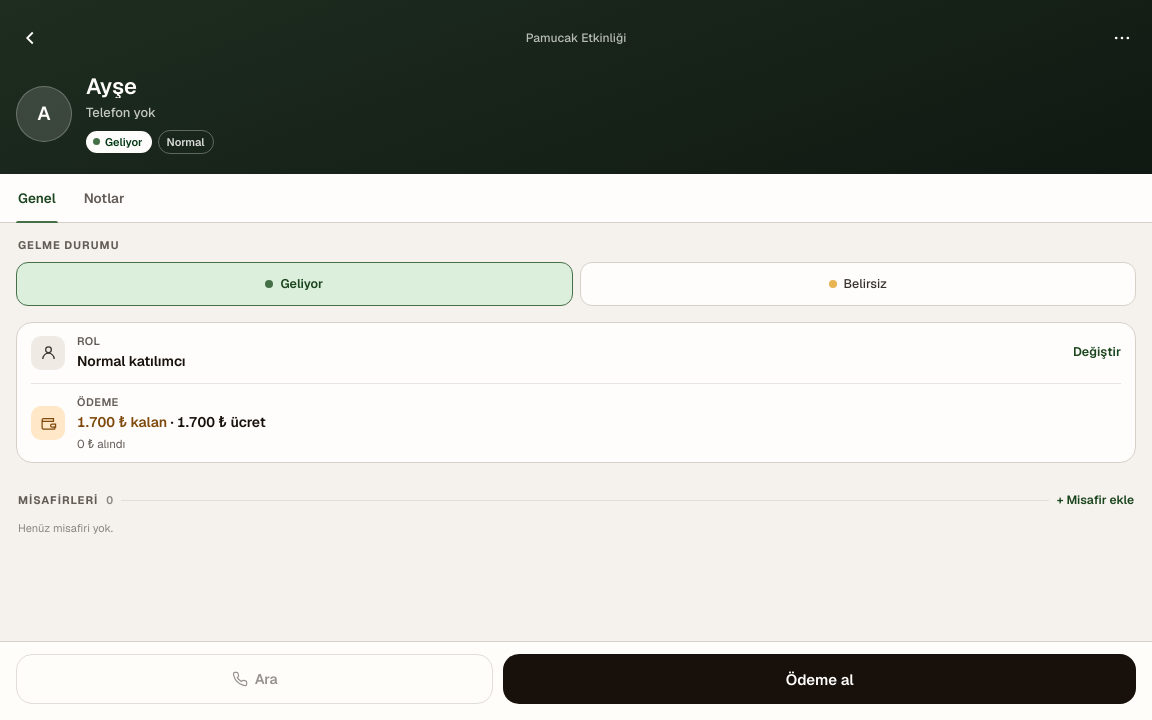
Scenario: Katılımcı profili not günlüğü › kendi notunu düzenler
The image size is (1152, 720).
Click the tab "Notlar" at (104, 198), box [82,174,126,222]
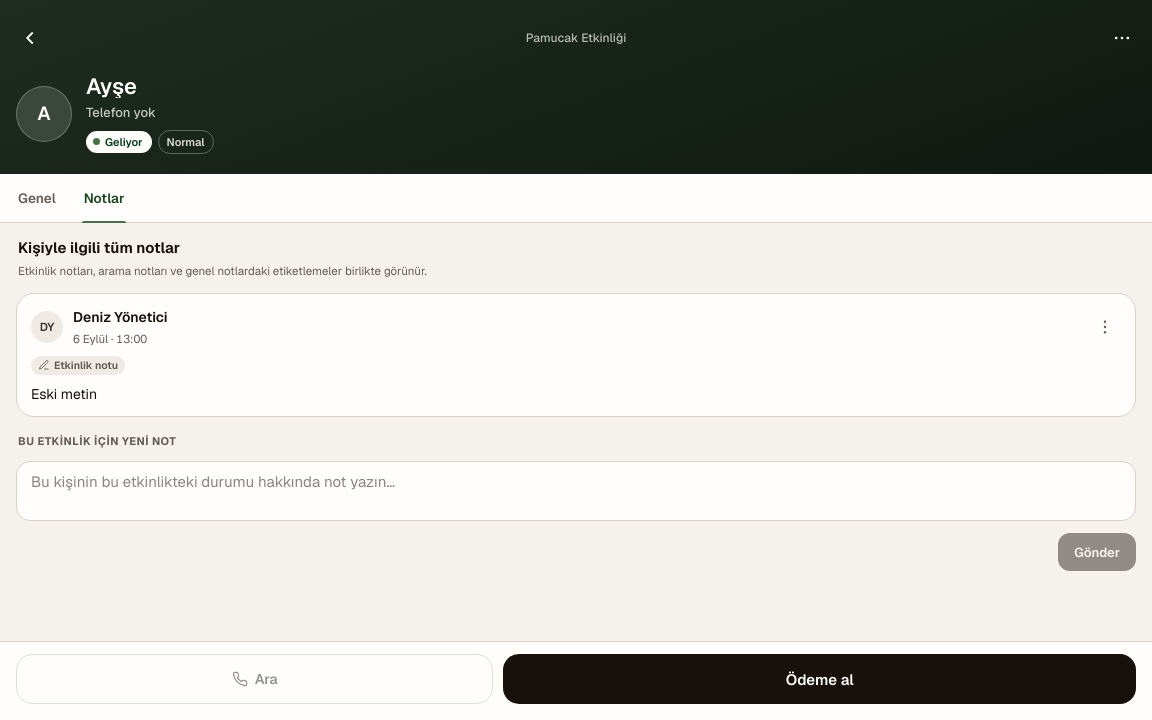
Now the text "Eski metin" is shown, box [31,385,97,403]
Click the button named "Not işlemleri" at (1105, 327), box [1089,311,1121,343]
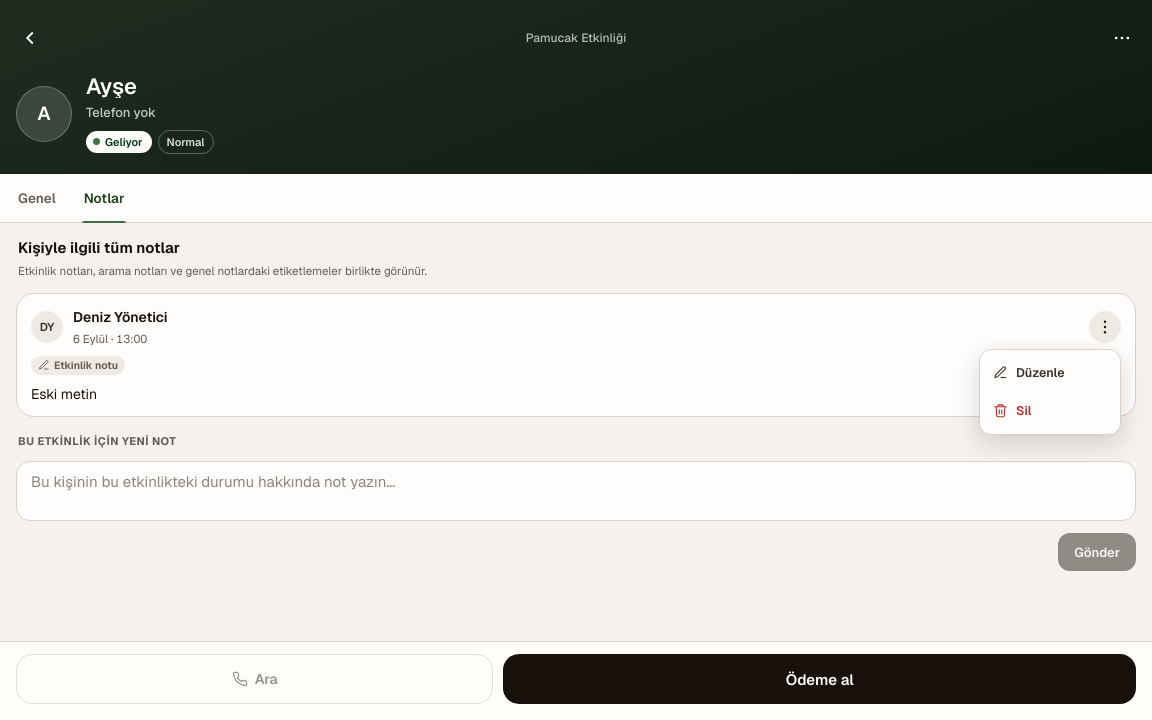
Click the menu item "Düzenle" at (1050, 373), box [984,354,1116,392]
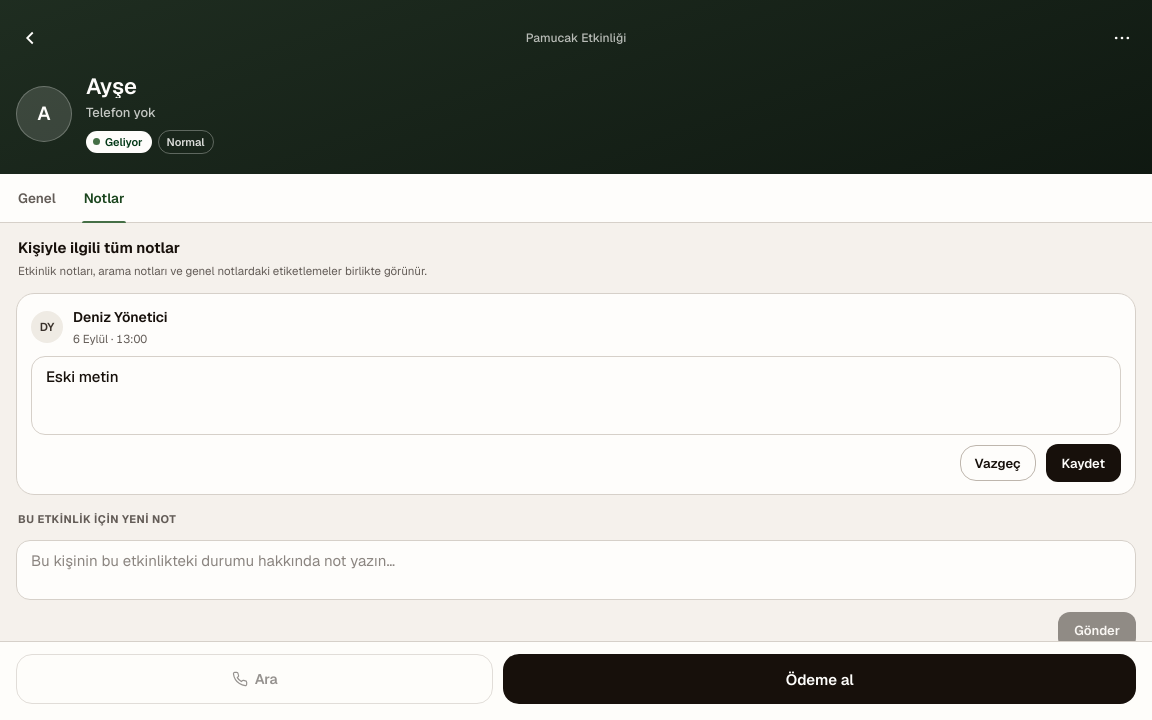
Replace the text in the text box showing "Eski metin" with "Yeni metin" at (576, 396), box [46,367,1106,424]
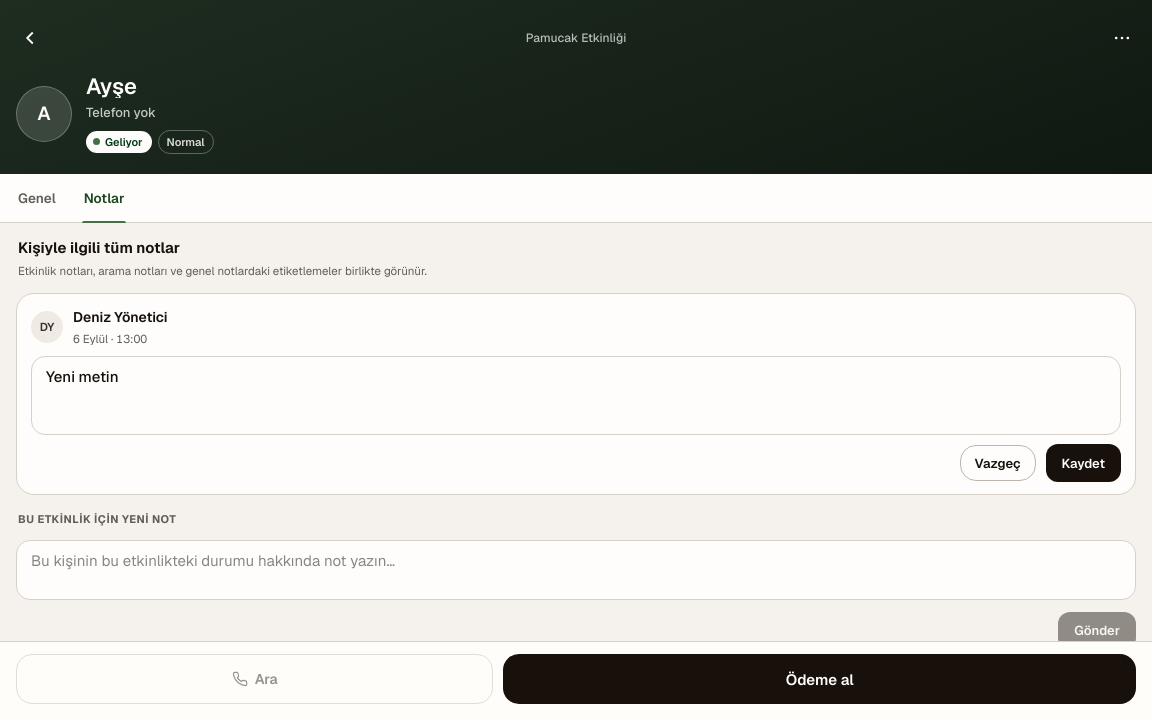
Click the button "Kaydet" at (1083, 463), box [1046,444,1121,482]
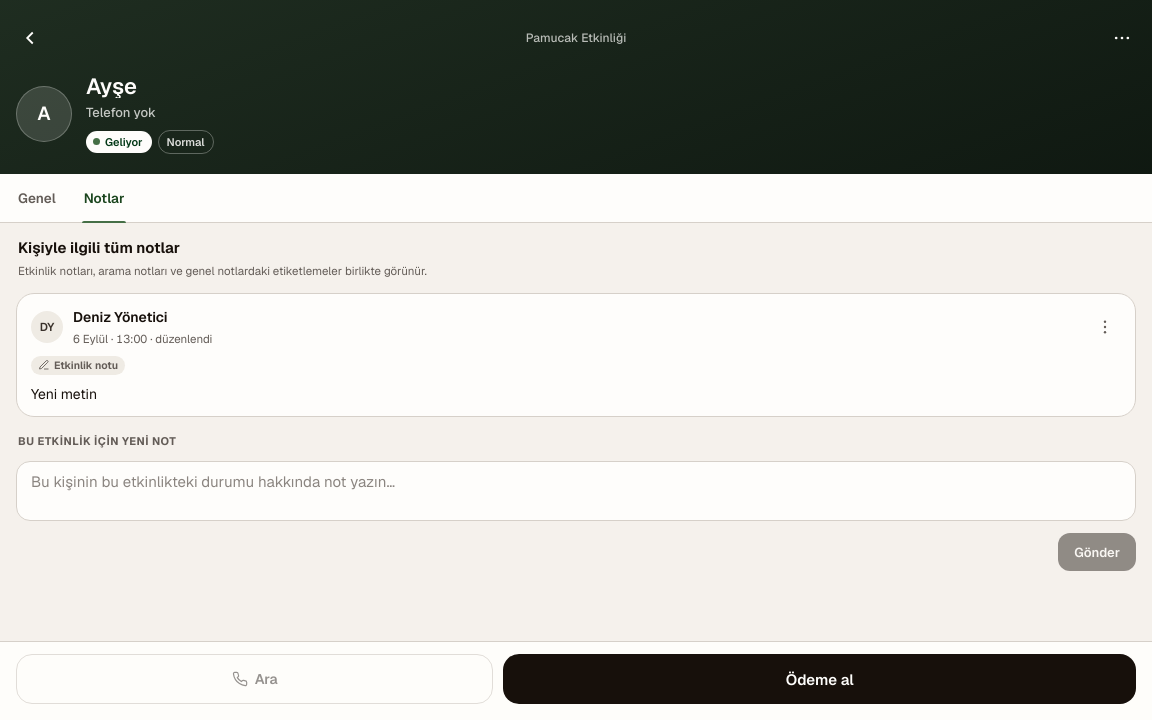
Now the text "Yeni metin" is shown, box [31,385,97,403]
Now the text "6 Eylül · 13:00 · düzenlendi" is shown, box [73,331,212,346]
